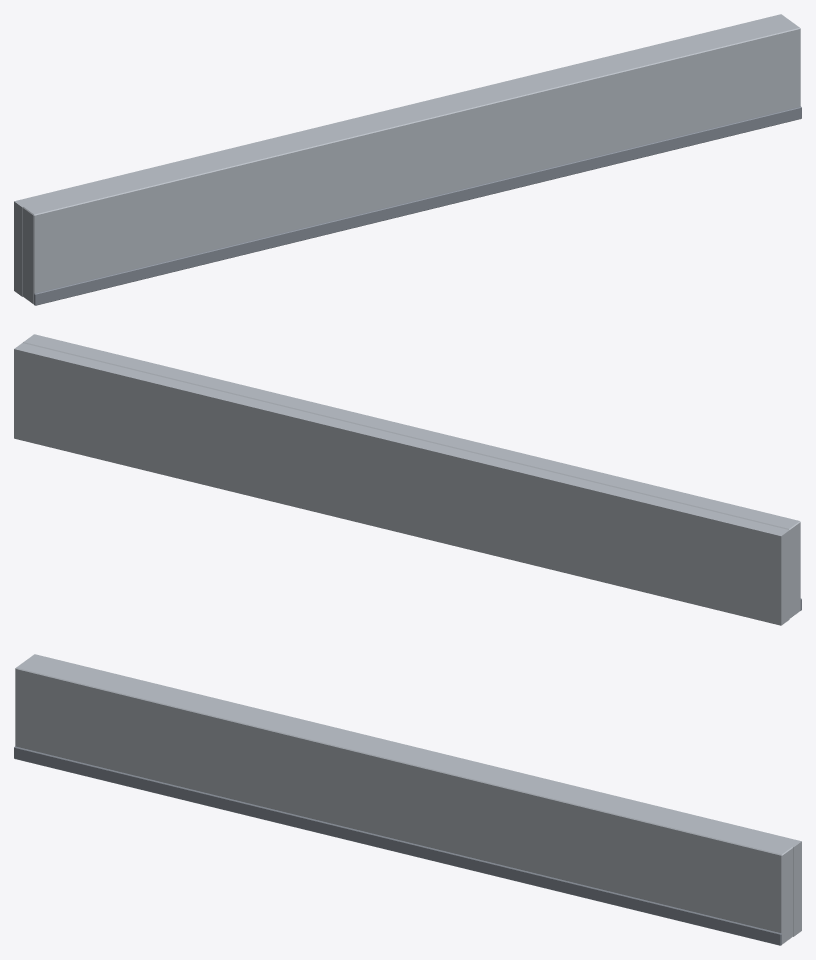
The model's file is soco_h45_4m.glb.
The picture shows the model from 3 angles, top to bottom: view 1: azimuth 30°, elevation 25°; view 2: azimuth 150°, elevation 25°; view 3: azimuth 330°, elevation 25°; orthographic projection.
Parts seen in each view (by area): view 1: soco_h45_4m; view 2: soco_h45_4m; view 3: soco_h45_4m.
Part boxes in pixels (x1,y1,x2,y2): soco_h45_4m: (14, 14, 801, 305); soco_h45_4m: (14, 334, 801, 625); soco_h45_4m: (14, 654, 801, 945).
Size of the model in its own units: 4 by 0.45 by 0.19.
Materials: 1 (1 with a texture image).
